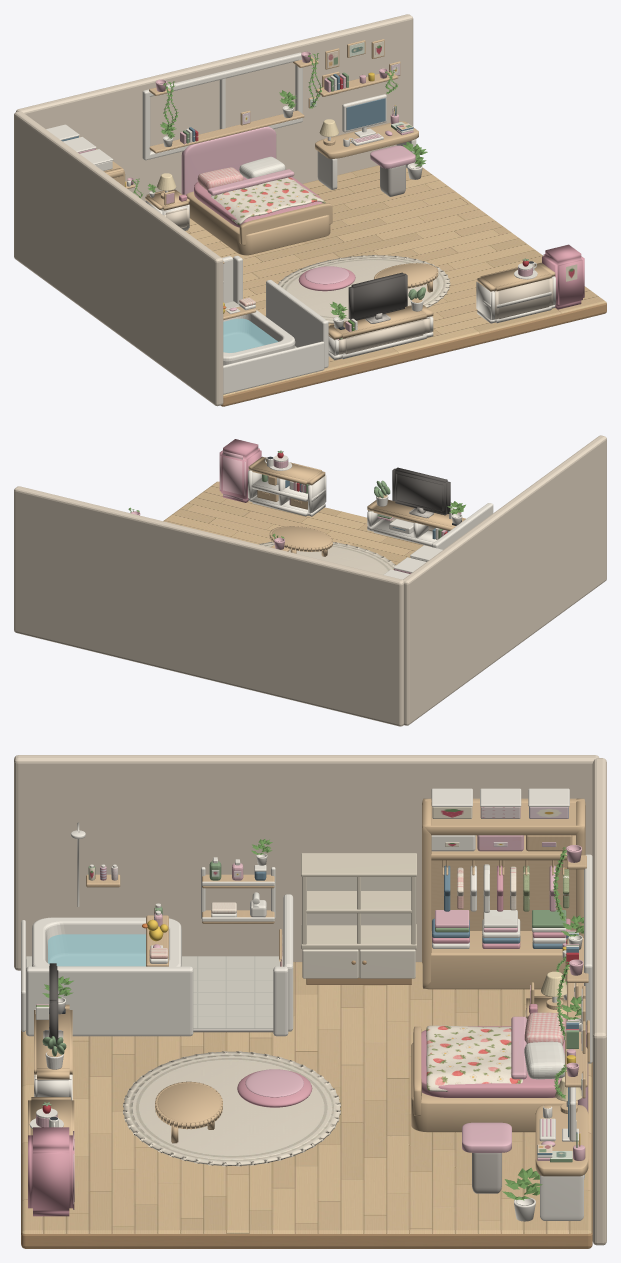
The model's file is room-web.glb.
3 views of the same model, one above another, from view 1: azimuth 30°, elevation 25°; view 2: azimuth 150°, elevation 25°; view 3: azimuth 270°, elevation 25° (orthographic). The views are drawn at different scales.
Parts seen in each view (by area): view 1: PH1_Wall_Left, PH1_Floor, PH1_Bath_Rear_Partition, PH1_Bed_Frame, PH1_Bed_Headboard, PH3_Lounge_Rug, BED_WarmLamp, PH1_Desk_Side_L, PH3_SnackShelf_Back, PH1_Bathtub_Basin, BED_Duvet, PH3_TV_Body (+10 smaller); view 2: PH1_Wall_Left, PH1_Floor, PH1_Bed_Frame, PH1_Desk_Side_L, PH1_Bath_Rear_Partition, PH3_TV_Body, PH3_Lounge_Rug, PH3_DessertCabinet_Body, PH3_DessertCabinet_Door, BED_WarmLamp, INT_Strawberry; view 3: PH1_Floor, PH1_Wall_Left, PH1_Bed_Frame, PH1_Bath_Rear_Partition, PH3_Lounge_Rug, BED_WarmLamp, DISPLAY_Lower_Carcass, PH1_Bathtub_Basin, DISPLAY_Closed_Door_1, BATH_TileGrid, BED_Duvet, PH3_DessertCabinet_Body (+17 smaller).
Part boxes in pixels (x1,y1,x2,y2): PH1_Wall_Left: (14,14,413,406); PH1_Floor: (185,165,606,406); PH1_Bath_Rear_Partition: (46,52,537,394); PH1_Bed_Frame: (79,121,555,339); PH1_Bed_Headboard: (181,126,415,284); PH3_Lounge_Rug: (277,255,450,323); BED_WarmLamp: (125,39,422,319); PH1_Desk_Side_L: (145,105,555,360); PH3_SnackShelf_Back: (164,208,553,354); PH1_Bathtub_Basin: (223,306,295,365); BED_Duvet: (211,177,325,224); PH3_TV_Body: (348,272,407,320); PH1_Wall_Left: (14,435,606,726); PH1_Floor: (163,481,429,725); PH1_Bed_Frame: (248,456,465,569); PH1_Desk_Side_L: (248,470,462,546); PH1_Bath_Rear_Partition: (264,455,493,579); PH3_TV_Body: (392,467,450,515); PH3_Lounge_Rug: (259,541,395,574); PH3_DessertCabinet_Body: (219,439,261,502); PH3_DessertCabinet_Door: (220,451,461,536); BED_WarmLamp: (257,476,387,551); INT_Strawberry: (262,450,447,538); PH1_Floor: (21,962,592,1248); PH1_Wall_Left: (14,755,606,1245); PH1_Bed_Frame: (28,798,588,1176); PH1_Bath_Rear_Partition: (21,788,592,1178); PH3_Lounge_Rug: (123,1051,340,1166); BED_WarmLamp: (47,799,589,1113); DISPLAY_Lower_Carcass: (301,853,416,977); PH1_Bathtub_Basin: (32,917,181,966); DISPLAY_Closed_Door_1: (302,877,415,978); BATH_TileGrid: (26,956,282,1028); BED_Duvet: (426,1025,522,1091); PH3_DessertCabinet_Body: (28,1127,74,1216).
Bounding box in the file's own units: 9.3 × 3.46 × 8.3.
37 materials, 16 textured.
